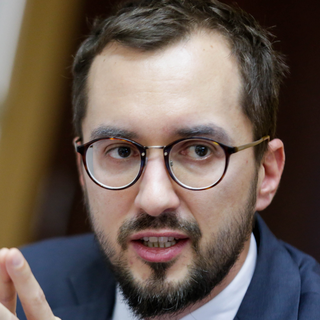eye: (166, 139, 216, 166), (92, 141, 140, 164)
